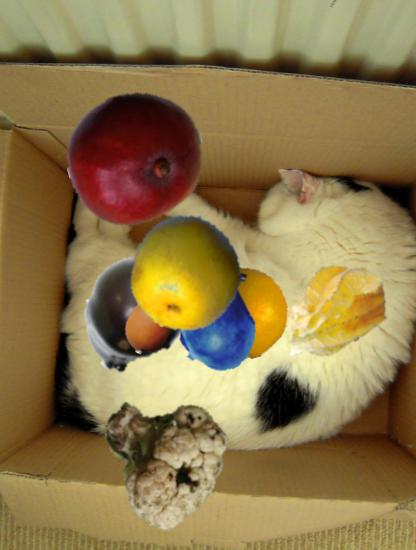Apricot: (121, 301, 175, 355)
Cauliflower: (94, 390, 226, 522)
Eggplant: (73, 252, 195, 374)
Grapefruit: (196, 267, 289, 360)
Huckleberry: (168, 280, 261, 373)
Mango: (66, 89, 205, 228)
Maracuja: (129, 215, 247, 333)
Physalis: (269, 244, 399, 374)
